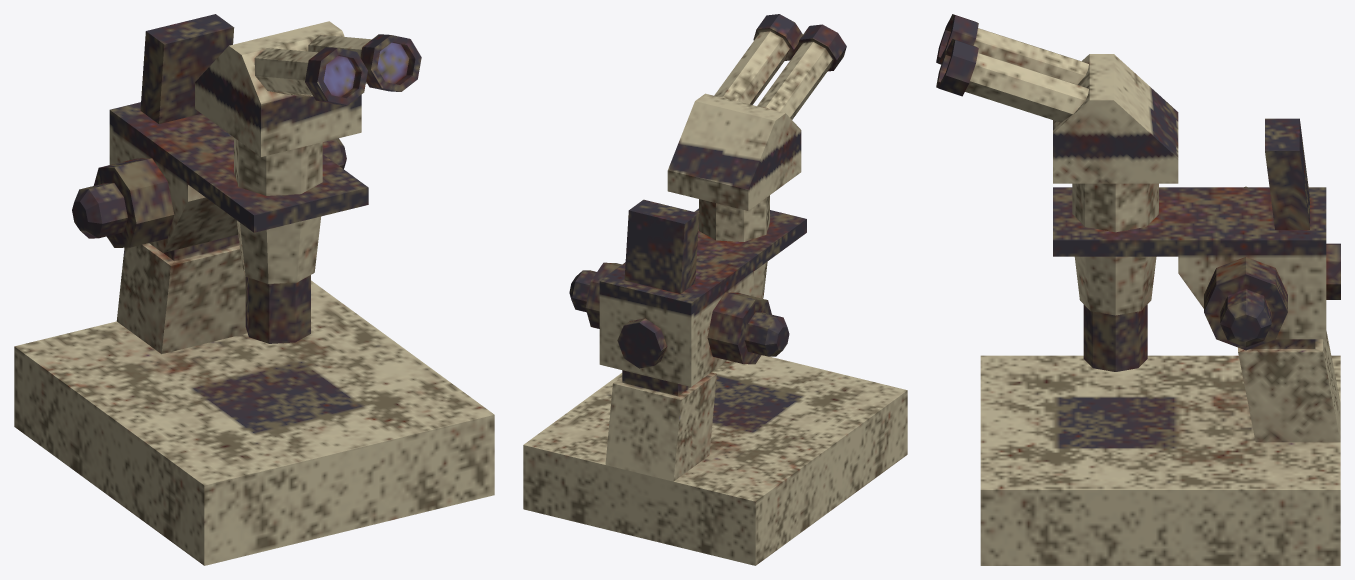
The model's file is microscope.fbx.
3 renders of one model, left to right at view 1: azimuth 30°, elevation 25°; view 2: azimuth 150°, elevation 25°; view 3: azimuth 270°, elevation 25°, orthographic. The views are drawn at different scales.
Visible parts, largest first — view 1: microscope; view 2: microscope; view 3: microscope.
Part boxes in pixels (x1,y1,x2,y2): microscope: [14, 14, 494, 565]; microscope: [523, 14, 907, 565]; microscope: [936, 14, 1340, 565].
Bounding box in the file's own units: 17.56 × 28.81 × 22.39.
Materials: 1 (1 with a texture image).
